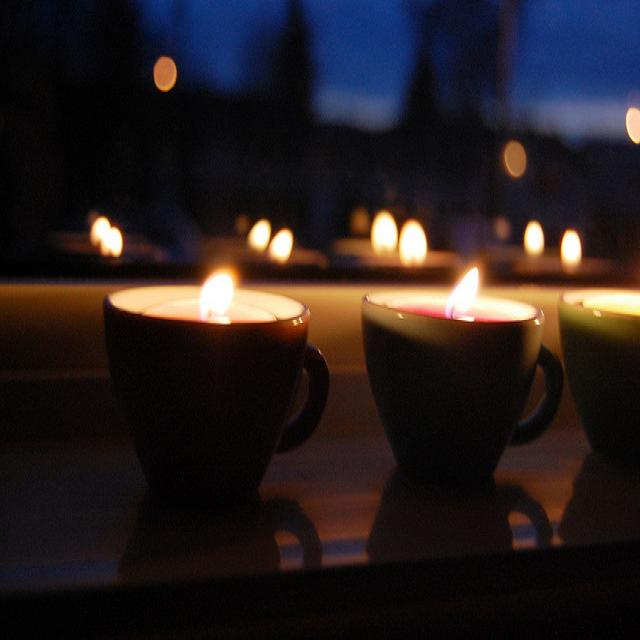Cup: (88, 273, 340, 518), (368, 275, 548, 502), (551, 256, 640, 498)
Table: (13, 314, 640, 640)
